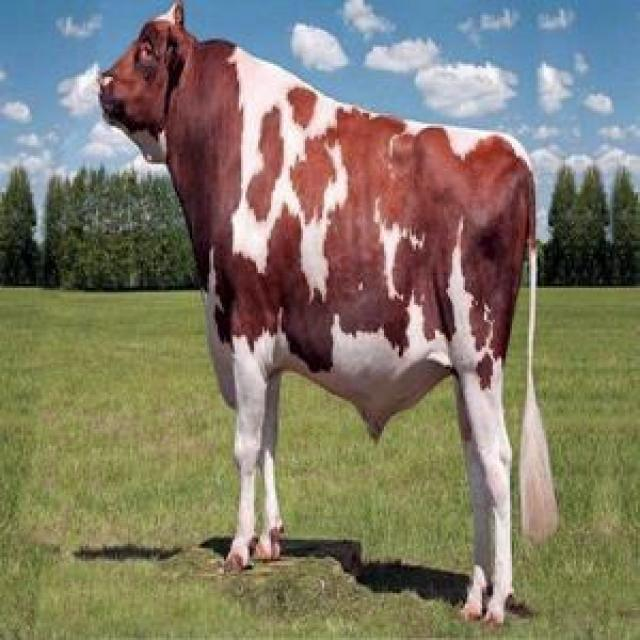cow: (100, 2, 559, 622)
